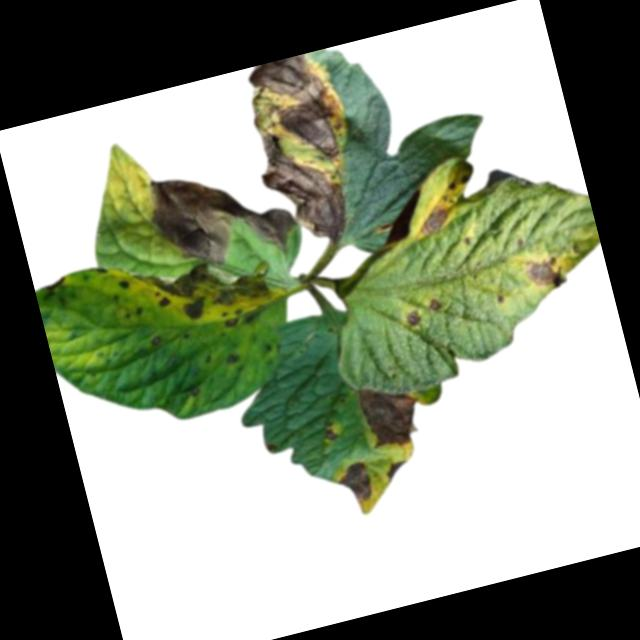Early_blight: (236, 48, 374, 254), (141, 148, 301, 277), (138, 243, 278, 344), (357, 374, 425, 453), (333, 457, 374, 506), (521, 249, 566, 293), (414, 198, 457, 242), (383, 457, 410, 483), (43, 273, 69, 293), (402, 306, 423, 329), (323, 419, 339, 441), (426, 294, 444, 313), (225, 350, 240, 364), (117, 276, 131, 288)
